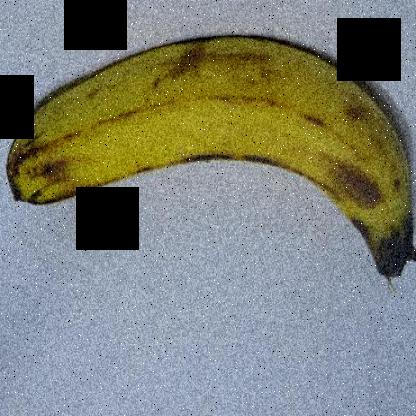ripe: (0, 14, 415, 308)
